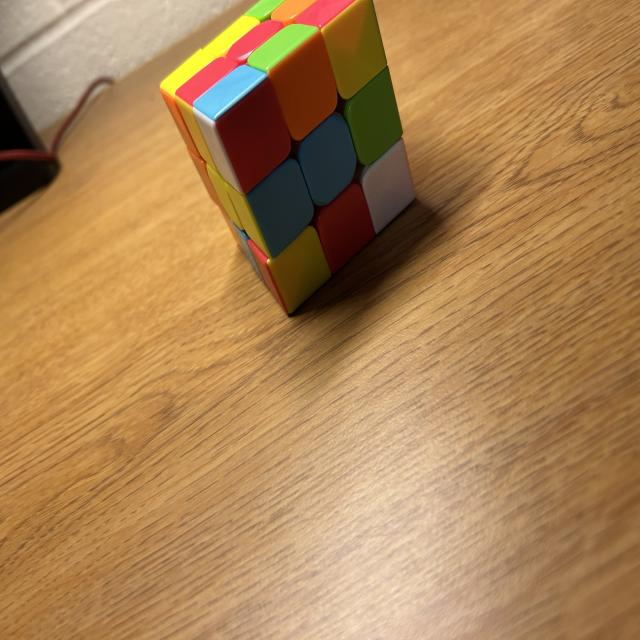Rubiks Cube: (161, 0, 417, 315)
